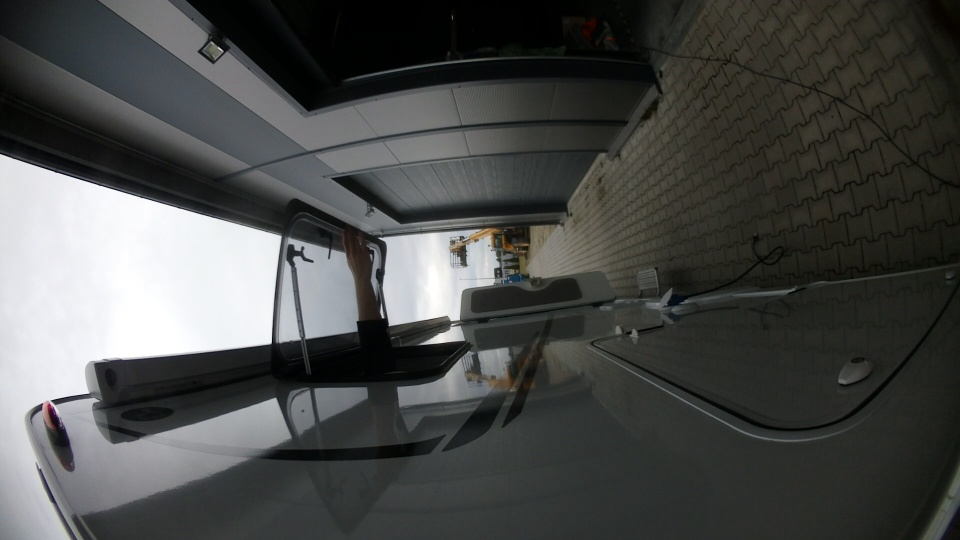door_back: (448, 264, 624, 323)
step_back: (632, 262, 663, 300)
window_back: (266, 194, 469, 390)
